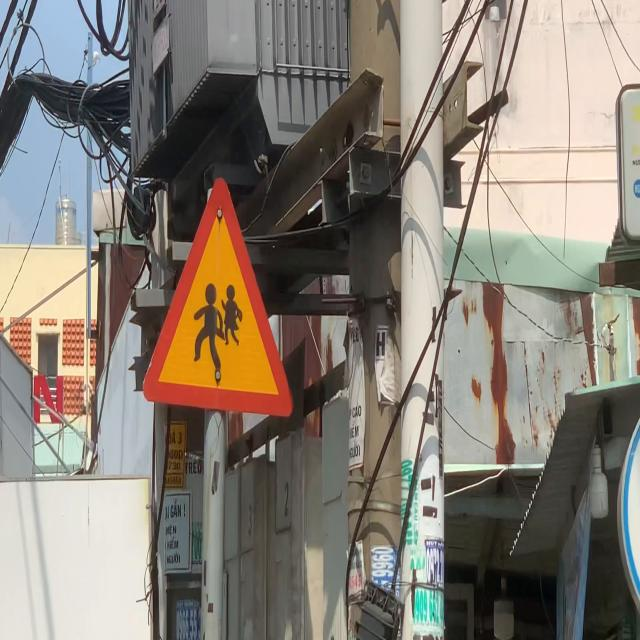Nguy hiem: (142, 173, 294, 418)
